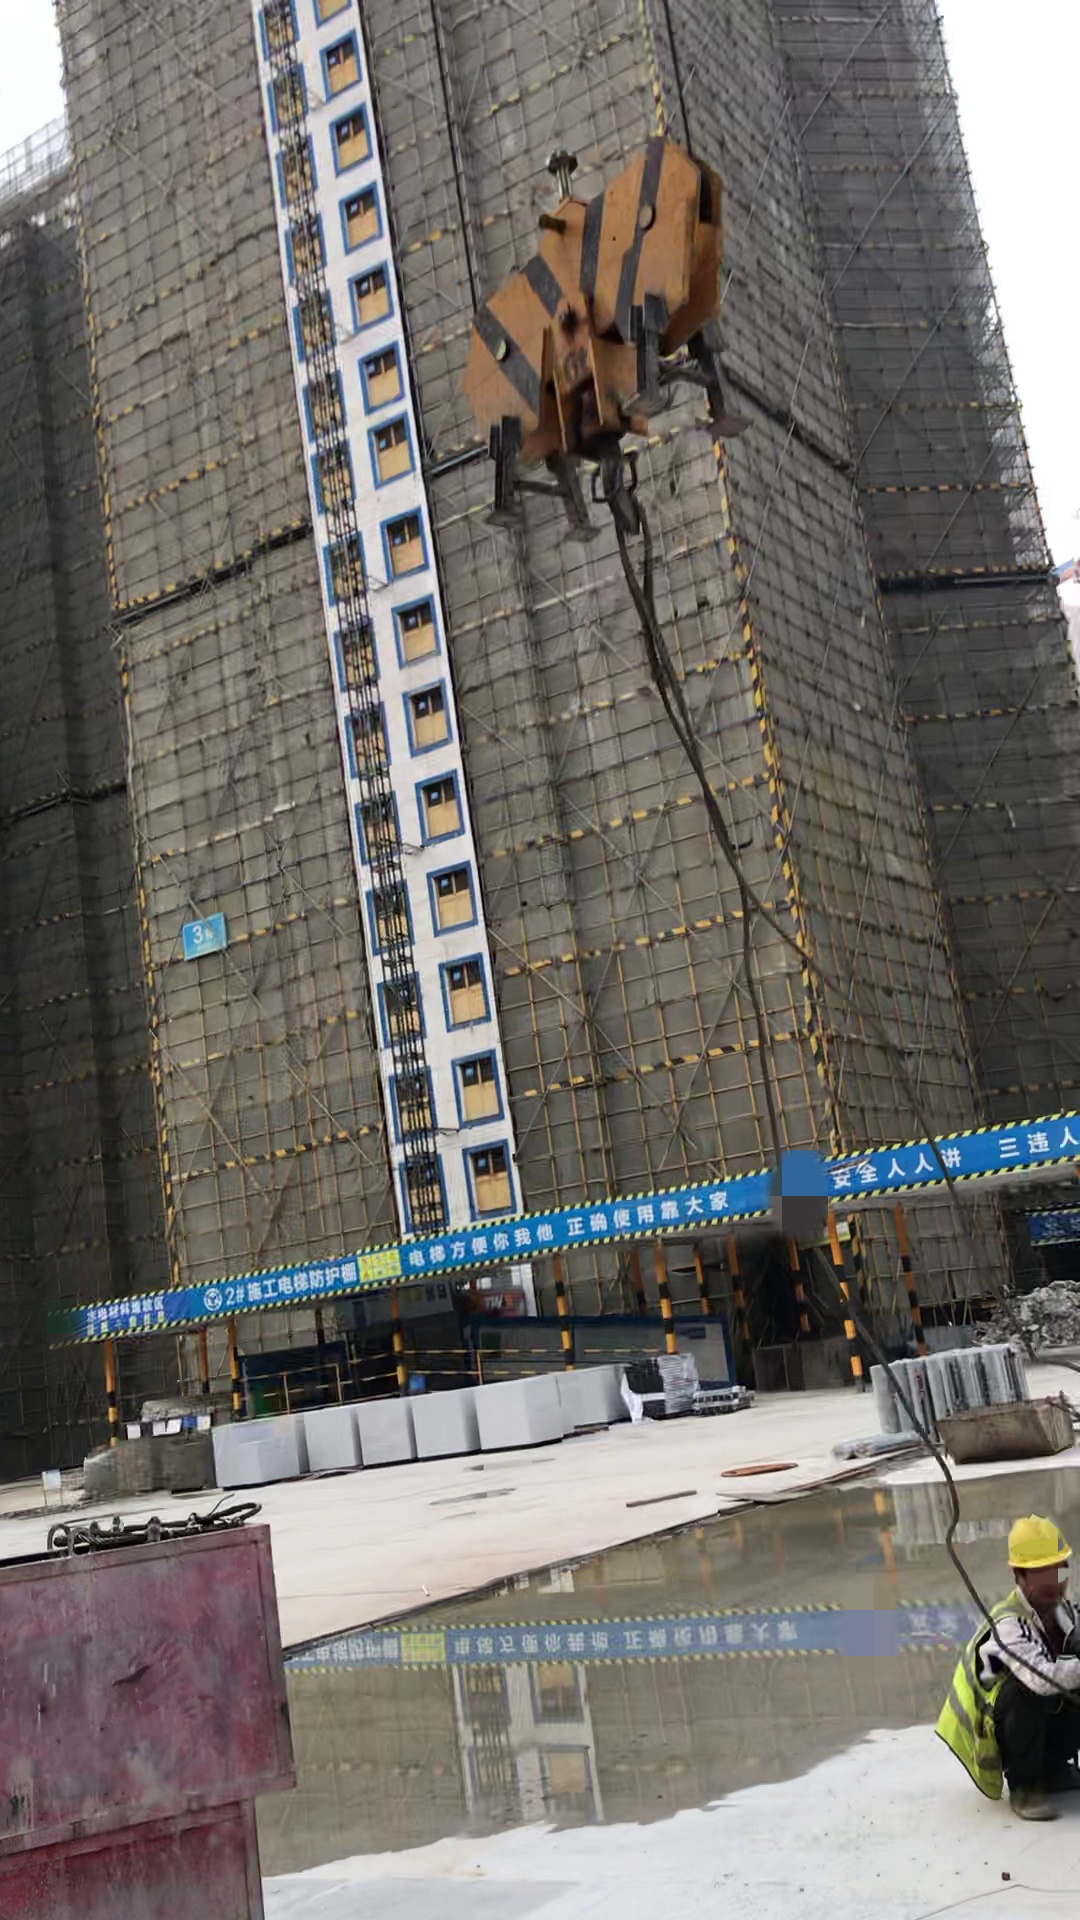brick: (471, 1372, 569, 1458), (210, 1413, 306, 1488), (412, 1380, 474, 1461), (301, 1400, 363, 1479), (356, 1391, 413, 1476), (559, 1365, 625, 1429)
helmet: (1007, 1513, 1080, 1573)
hook: (439, 142, 763, 555)
hopper: (943, 1383, 1067, 1459)
person: (948, 1501, 1080, 1808)
slogan: (49, 1118, 1069, 1306)
vest: (939, 1584, 1080, 1790)
